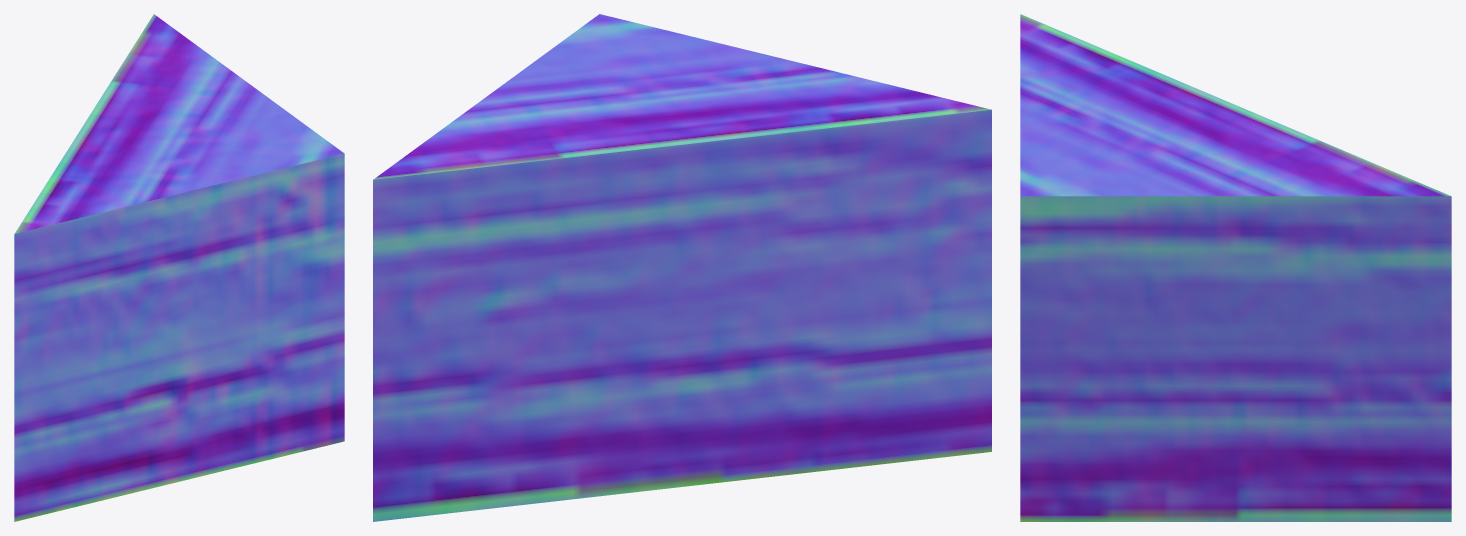
Rendered from HsTrimCorB01.fbx.
3 views of the same model, side by side, from view 1: azimuth 30°, elevation 25°; view 2: azimuth 150°, elevation 25°; view 3: azimuth 270°, elevation 25° (orthographic). The views are drawn at different scales.
Parts seen in each view (by area): view 1: HsTrimCorB01; view 2: HsTrimCorB01; view 3: HsTrimCorB01.
Boxes of the visible parts, left/top/right/bottom form: HsTrimCorB01: left=14, top=14, right=344, bottom=521; HsTrimCorB01: left=373, top=14, right=991, bottom=521; HsTrimCorB01: left=1020, top=14, right=1451, bottom=521.
Size of the model in its own units: 12 by 10 by 12.
